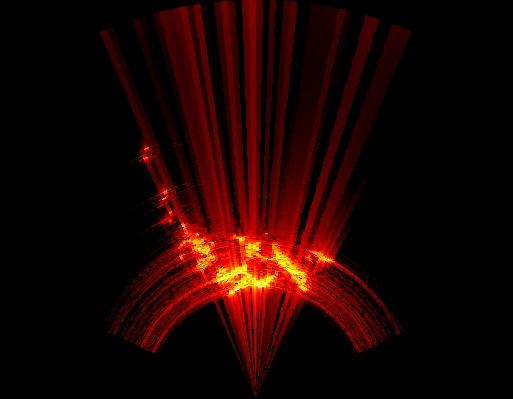shipwreck: (179, 224, 309, 295), (306, 252, 339, 265)
